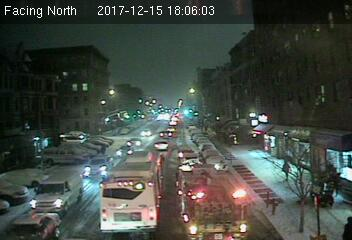bus: (98, 151, 164, 232)
car: (3, 212, 61, 240), (84, 156, 113, 176), (116, 146, 135, 159), (153, 140, 169, 149), (158, 130, 173, 139), (127, 138, 142, 146)
pedestrian: (283, 159, 291, 182)
truck: (29, 171, 84, 211)
